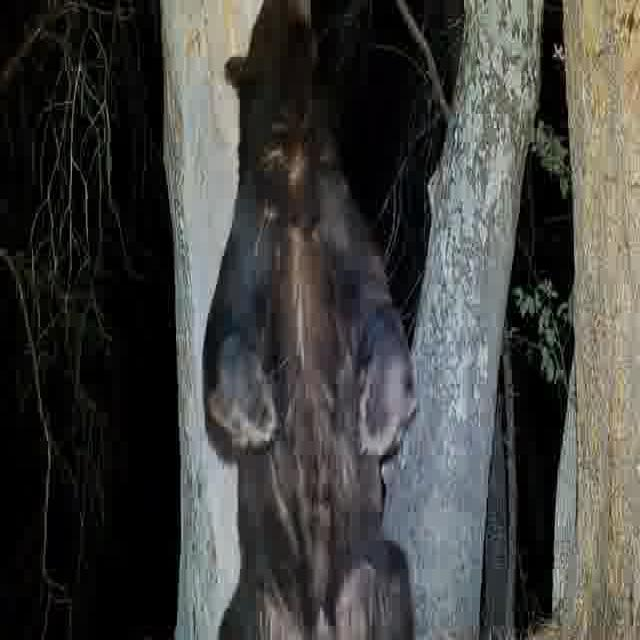bear face: (201, 0, 417, 640)
